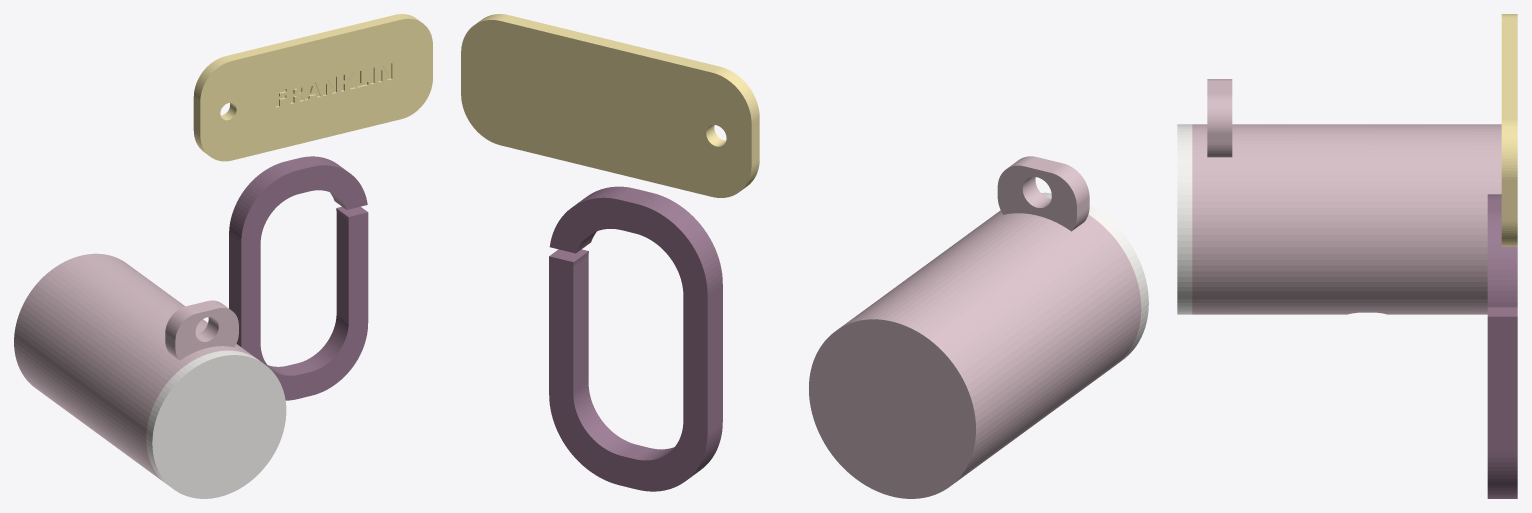
Rendered from pet-walk-kit.glb.
3 views of the same model, side by side, from view 1: azimuth 30°, elevation 25°; view 2: azimuth 150°, elevation 25°; view 3: azimuth 270°, elevation 25° (orthographic). The views are drawn at different scales.
Parts seen in each view (by area): view 1: walk-bag-pod__1, pet-name-tag__4, rally-flex-clip__3, walk-pod-cap__2; view 2: walk-bag-pod__1, pet-name-tag__4, rally-flex-clip__3, walk-pod-cap__2; view 3: walk-bag-pod__1, rally-flex-clip__3, pet-name-tag__4, walk-pod-cap__2.
Part boxes in pixels (left/top/right/bottom): walk-bag-pod__1: left=14, top=253, right=256, bottom=482; pet-name-tag__4: left=193, top=14, right=432, bottom=161; rally-flex-clip__3: left=229, top=156, right=368, bottom=400; walk-pod-cap__2: left=146, top=350, right=286, bottom=498; walk-bag-pod__1: left=809, top=156, right=1141, bottom=498; pet-name-tag__4: left=461, top=14, right=759, bottom=197; rally-flex-clip__3: left=549, top=186, right=722, bottom=491; walk-pod-cap__2: left=1041, top=192, right=1148, bottom=363; walk-bag-pod__1: left=1192, top=79, right=1501, bottom=314; rally-flex-clip__3: left=1487, top=194, right=1517, bottom=498; pet-name-tag__4: left=1501, top=14, right=1517, bottom=246; walk-pod-cap__2: left=1177, top=124, right=1192, bottom=314.
Bounding box in the file's own units: 0.117 × 0.0945 × 0.068.
